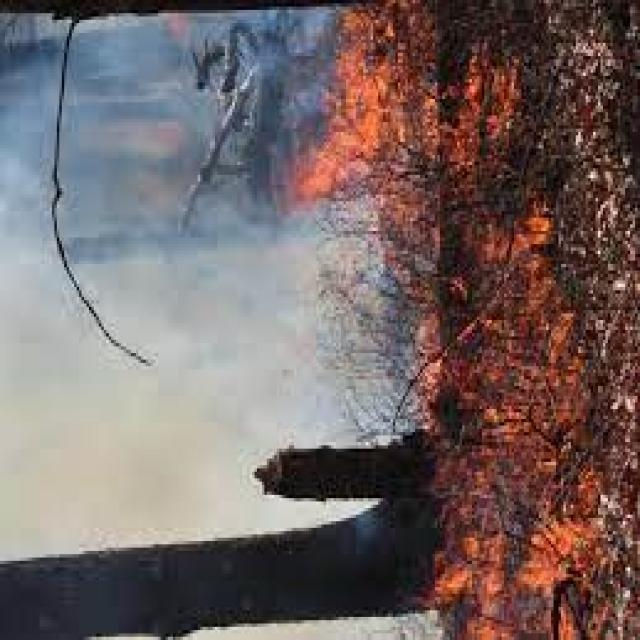Fire: (300, 1, 640, 640)
Smoke: (0, 0, 262, 530)
